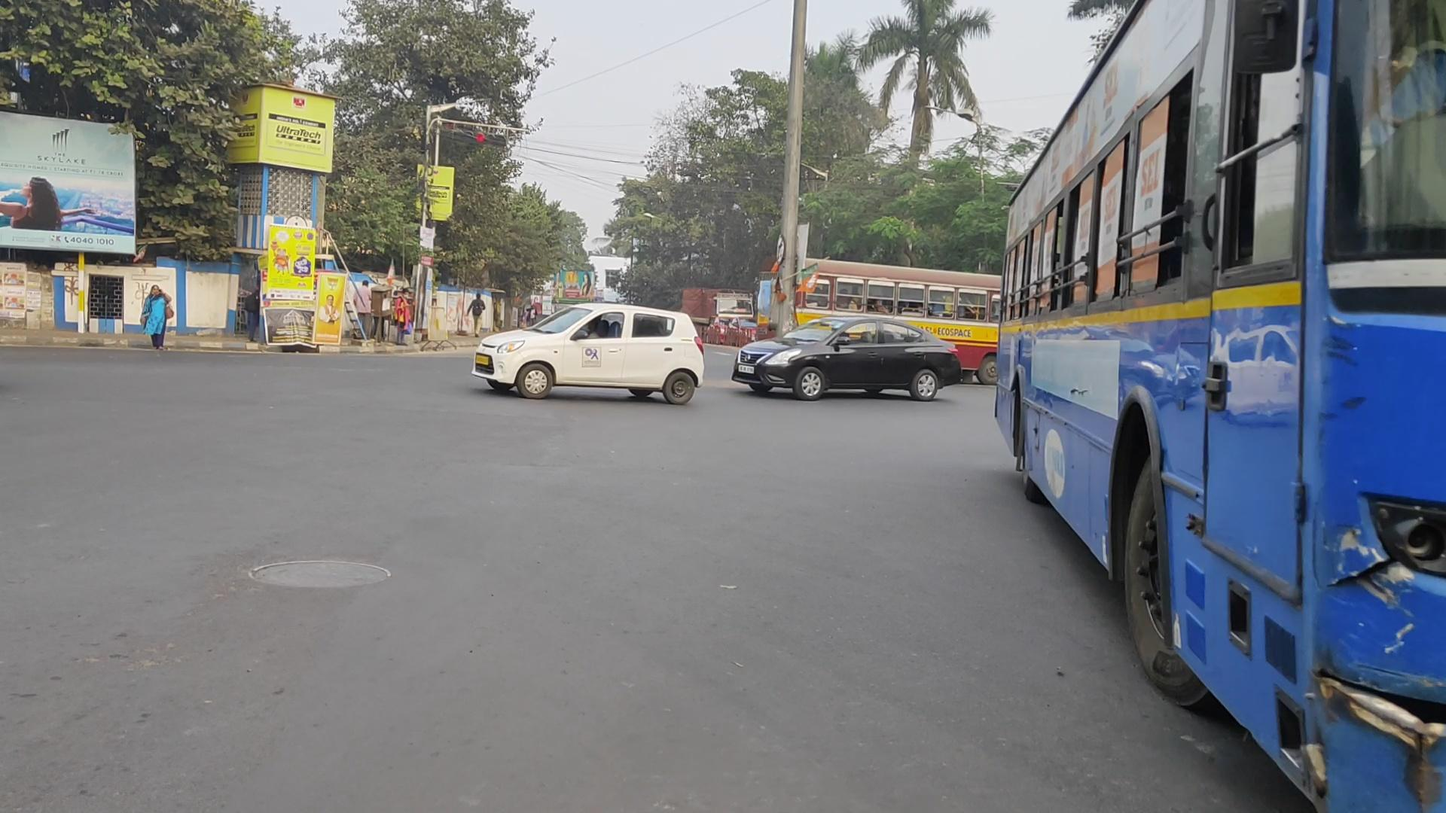Bus: (993, 1, 1446, 813), (775, 259, 1005, 387)
car: (472, 301, 706, 406), (732, 315, 962, 401)
